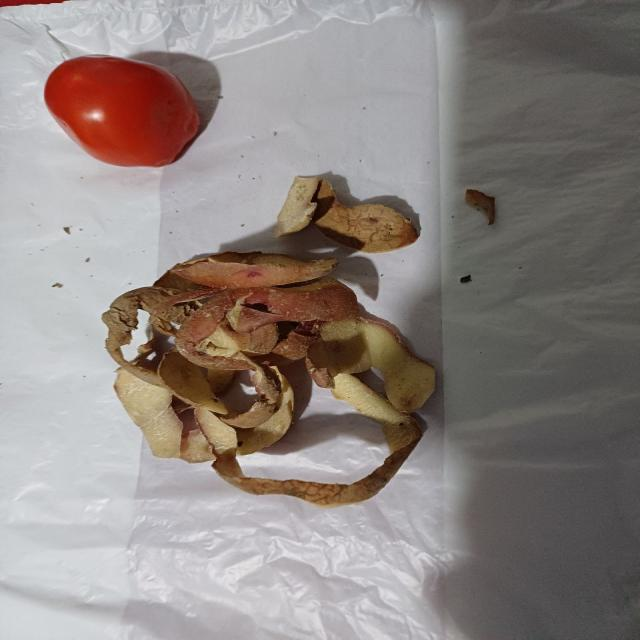organic: (104, 175, 437, 505)
